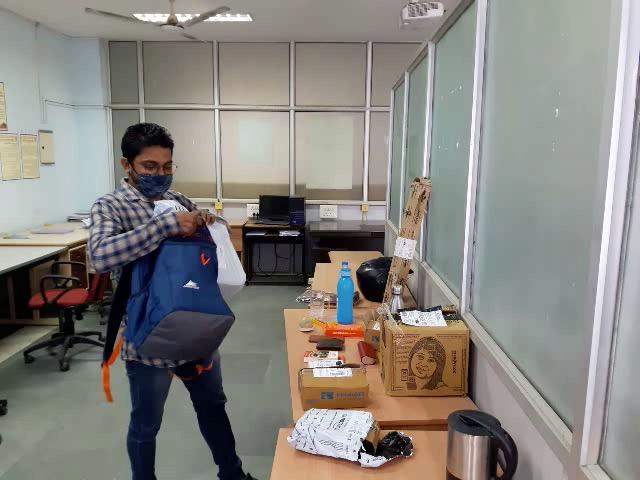shoplifting: (102, 195, 251, 376)
